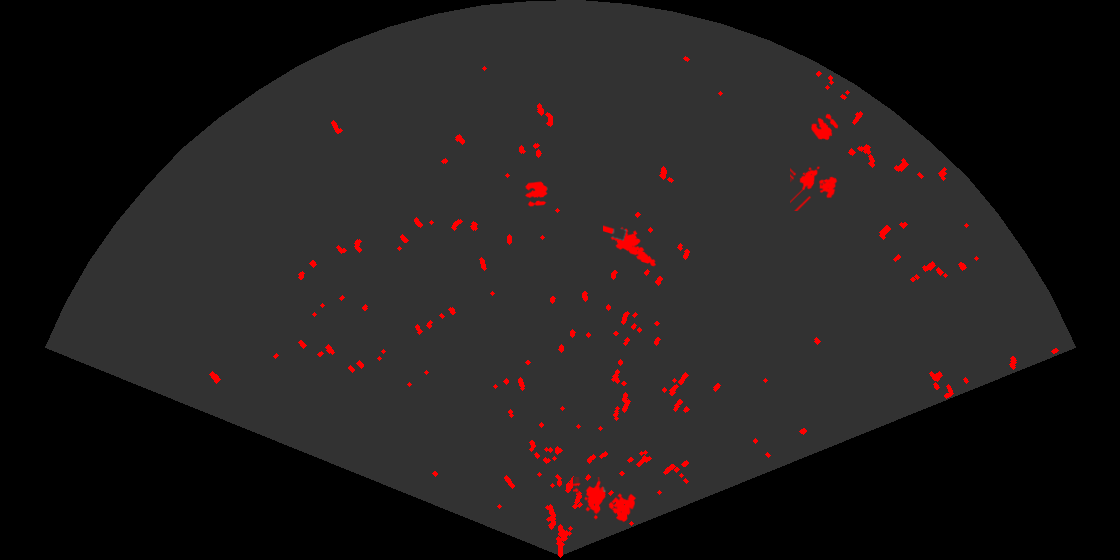ball: (810, 112, 840, 142), (523, 180, 549, 208)
cage: (573, 477, 638, 524), (790, 165, 839, 211)
frogman: (603, 224, 658, 268)
